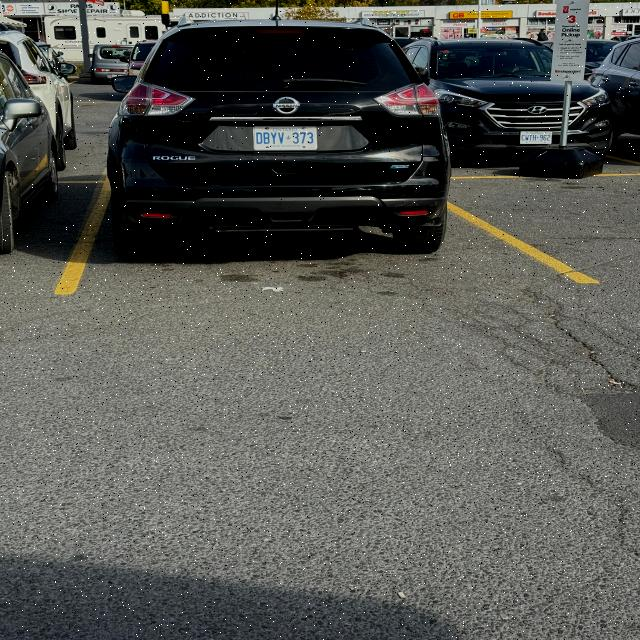plaque: (254, 126, 317, 150), (520, 132, 552, 144), (108, 73, 126, 78)
